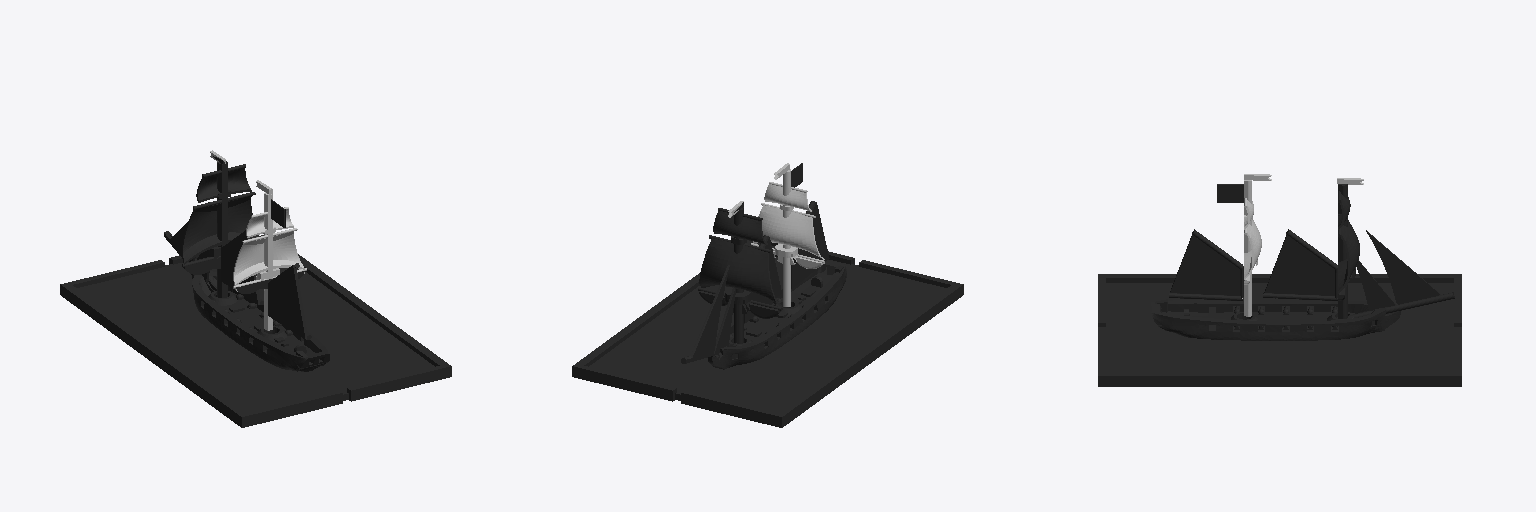
Rendered from SOG_Brig_small.obj.
The picture shows the model from 3 angles: view 1: azimuth 30°, elevation 25°; view 2: azimuth 150°, elevation 25°; view 3: azimuth 270°, elevation 25°; orthographic projection.
Visible parts, largest first — view 1: SOG_Brig_small.obj; view 2: SOG_Brig_small.obj; view 3: SOG_Brig_small.obj.
Boxes of the visible parts, x1=… form: SOG_Brig_small.obj: x1=60, y1=150, x2=451, y2=427; SOG_Brig_small.obj: x1=572, y1=163, x2=963, y2=427; SOG_Brig_small.obj: x1=1098, y1=174, x2=1461, y2=386.
Bounding box in the file's own units: 4.3 × 3.14 × 6.45.